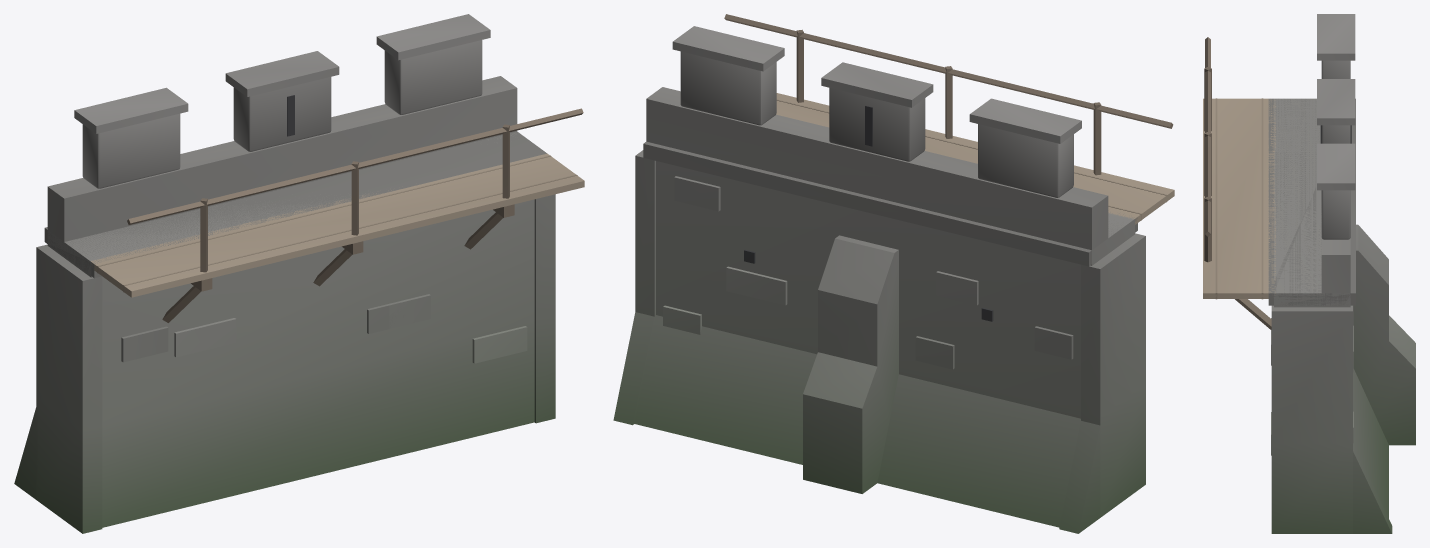
Rendered from town_wall.gltf.
3 renders of one model, left to right at view 1: azimuth 30°, elevation 25°; view 2: azimuth 150°, elevation 25°; view 3: azimuth 270°, elevation 25°, orthographic. The views are drawn at different scales.
Visible parts, largest first — view 1: Body; view 2: Body; view 3: Body.
Boxes of the visible parts, left/top/right/bottom form: Body: left=14, top=14, right=584, bottom=533; Body: left=613, top=14, right=1174, bottom=533; Body: left=1203, top=14, right=1415, bottom=533.
Bounding box in the file's own units: 6.26 × 4.8 × 2.77.
